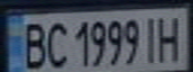1: (69, 17, 90, 68)
9: (87, 16, 109, 66), (106, 16, 127, 66), (121, 16, 142, 66)
B: (15, 18, 51, 71)
C: (42, 18, 69, 70)
H: (154, 11, 187, 63)
I: (139, 13, 163, 64)
